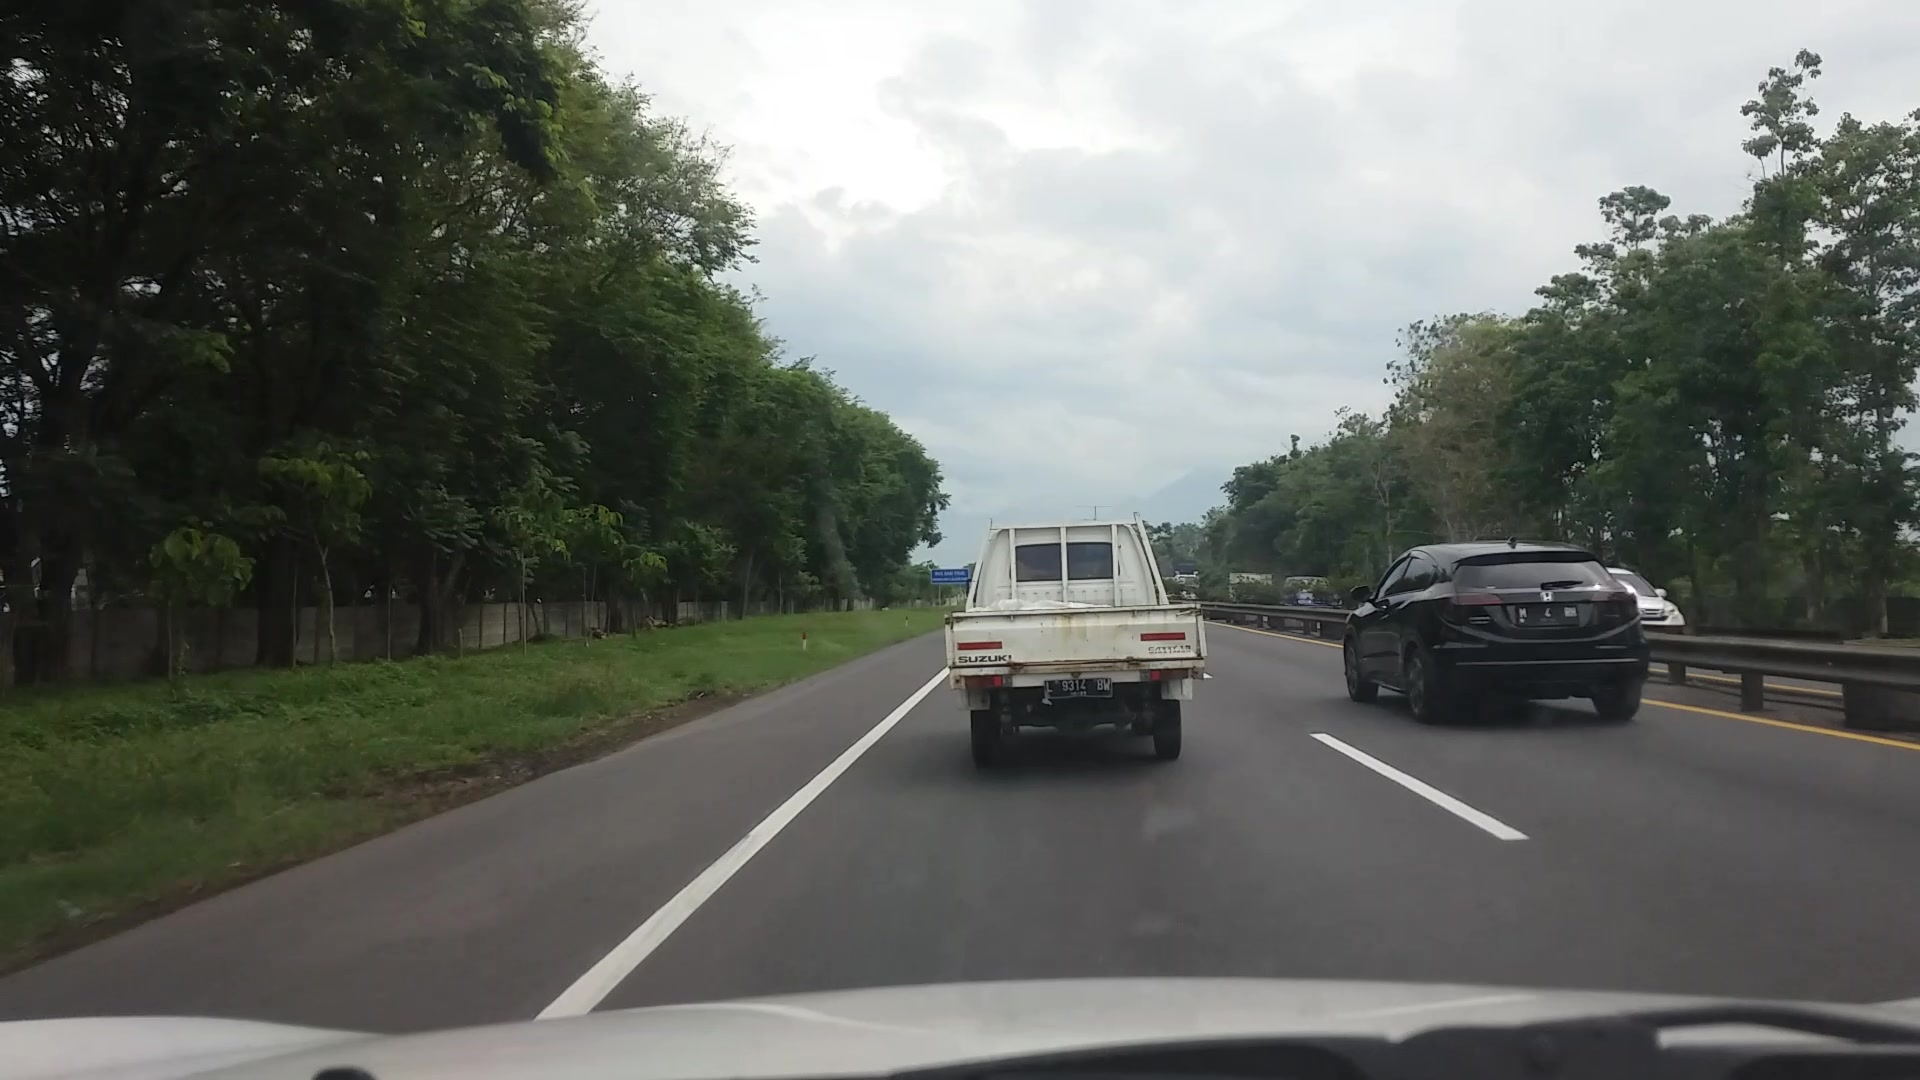plate_positive: (1044, 678, 1112, 699), (1516, 604, 1578, 626)
